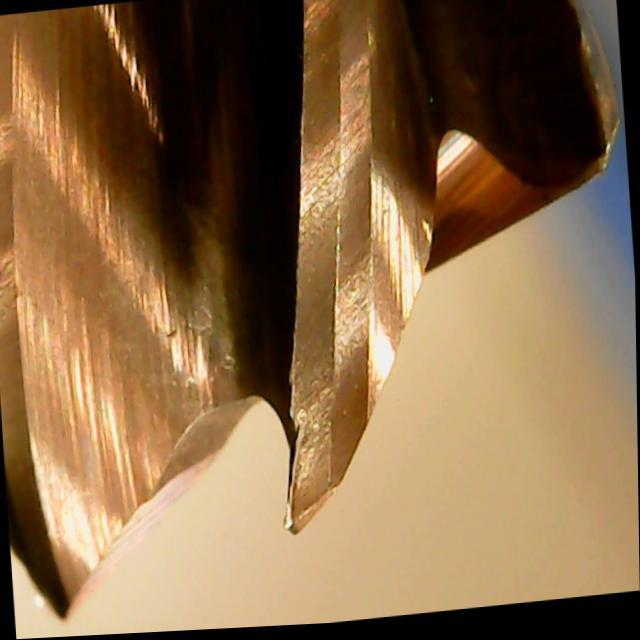Tool-wear-class-1: (249, 224, 407, 542)
